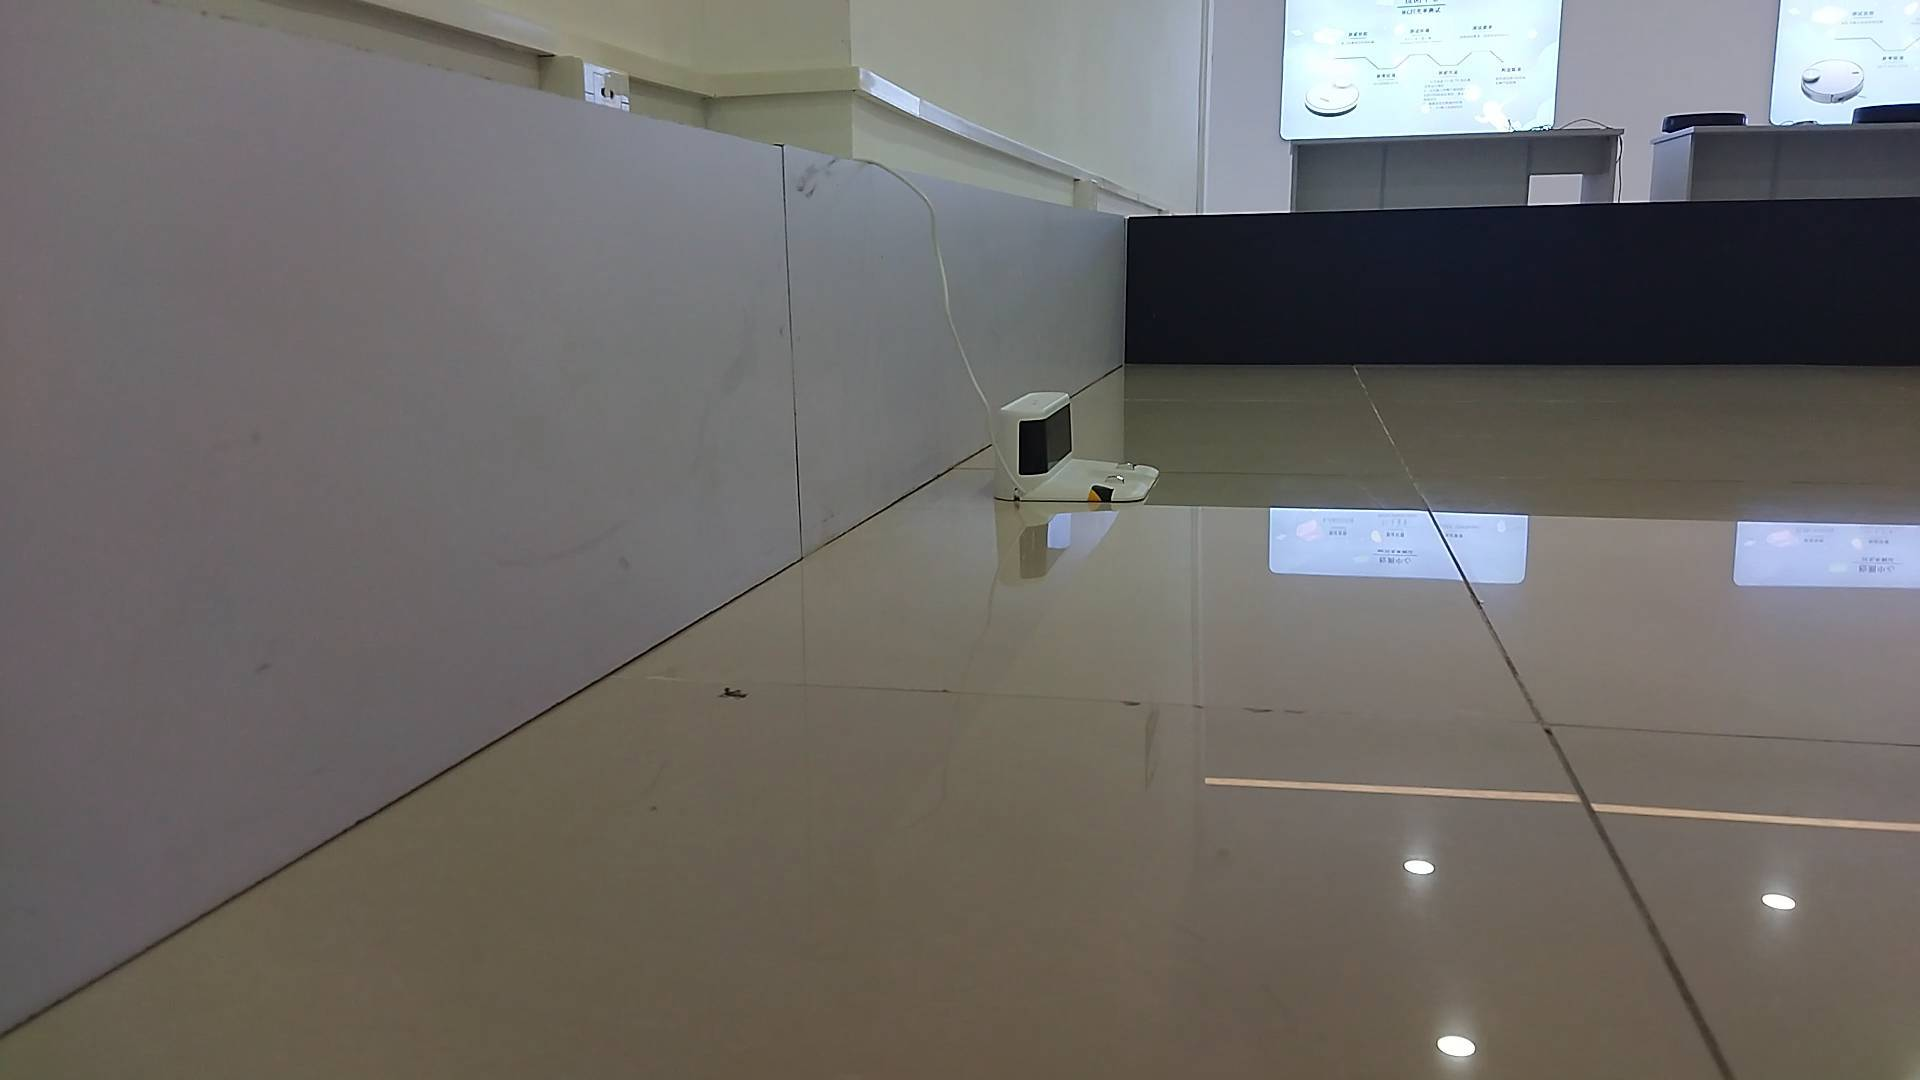recharge seat: (994, 392, 1162, 504)
